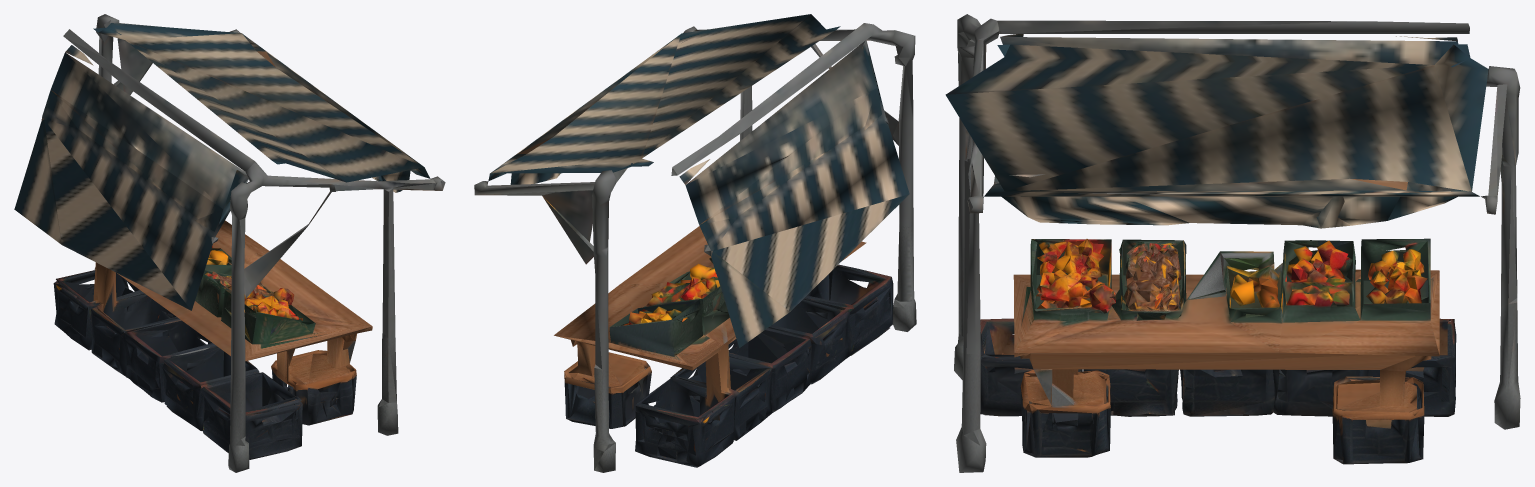
Rendered from barraca-de-feira__01a1b60e_LOD1.glb.
3 views of the same model, side by side, from view 1: azimuth 30°, elevation 25°; view 2: azimuth 150°, elevation 25°; view 3: azimuth 270°, elevation 25° (orthographic). The views are drawn at different scales.
Visible parts, largest first — view 1: barraca-de-feira__01a1b60e_LOD1; view 2: barraca-de-feira__01a1b60e_LOD1; view 3: barraca-de-feira__01a1b60e_LOD1.
Part boxes in pixels (x1,y1,x2,y2): barraca-de-feira__01a1b60e_LOD1: (14, 14, 445, 472); barraca-de-feira__01a1b60e_LOD1: (474, 14, 916, 472); barraca-de-feira__01a1b60e_LOD1: (945, 14, 1520, 472).
Bounding box in the file's own units: 2.08 × 2.4 × 3.34.
Materials: 1 (1 with a texture image).
